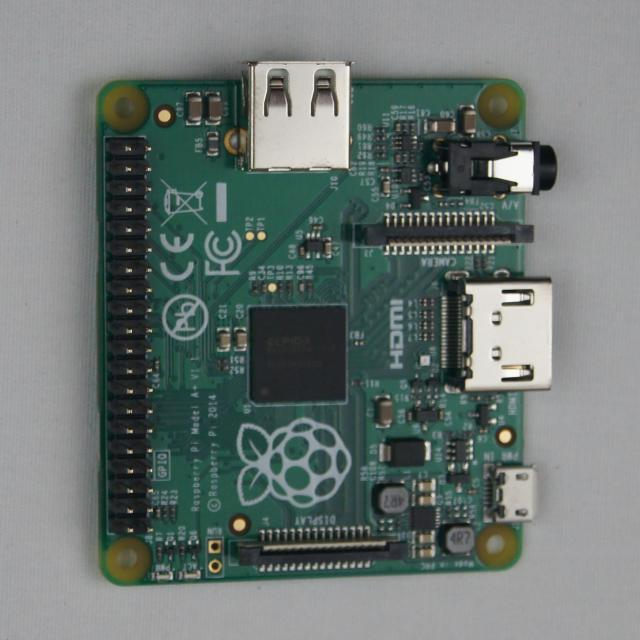Raspberry-Pi-1-A-: (98, 62, 559, 586)
